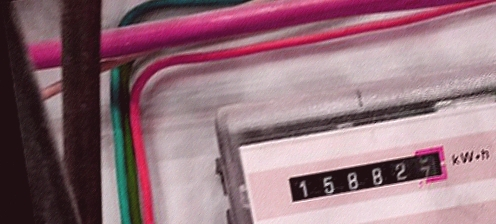1: (296, 175, 311, 196)
2: (394, 158, 408, 179)
5: (321, 172, 336, 193)
7: (419, 162, 432, 177)
8: (370, 163, 385, 186), (345, 167, 360, 189)
screen: (279, 137, 459, 209)
